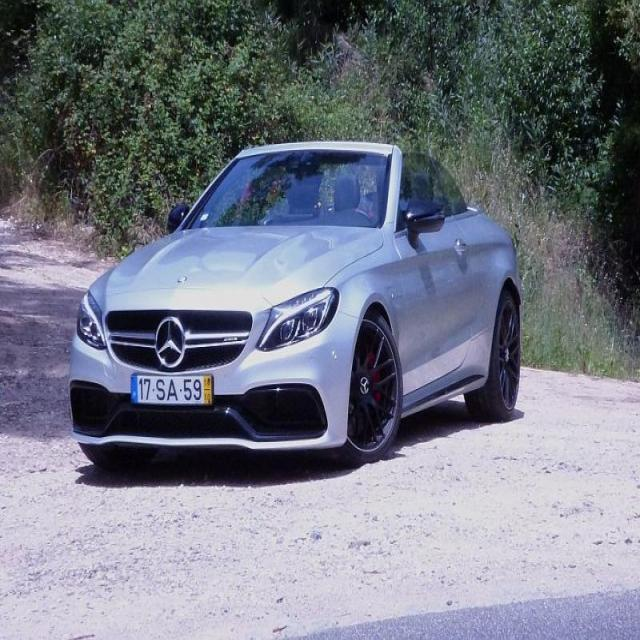portuguese-license-plates: (128, 368, 220, 411)
